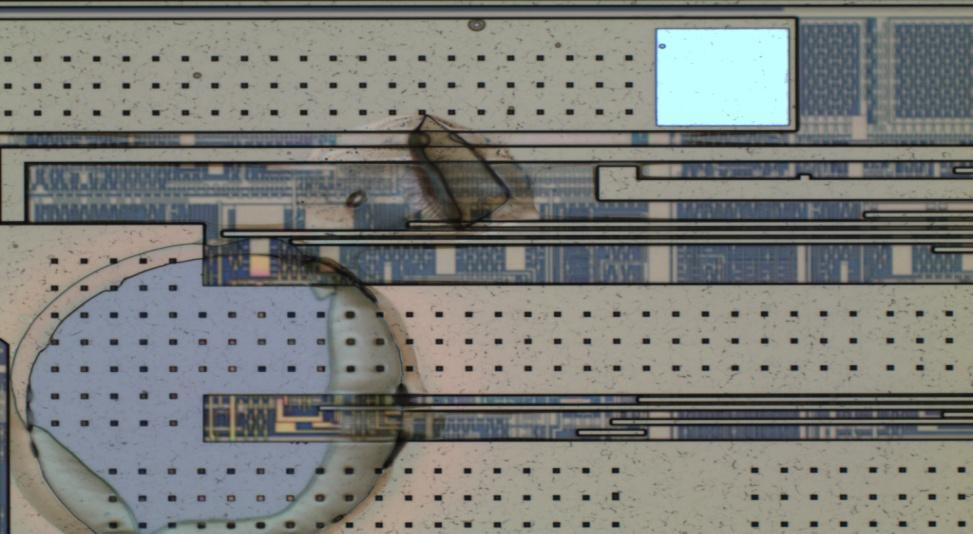COATING BAD: (4, 111, 544, 534)
